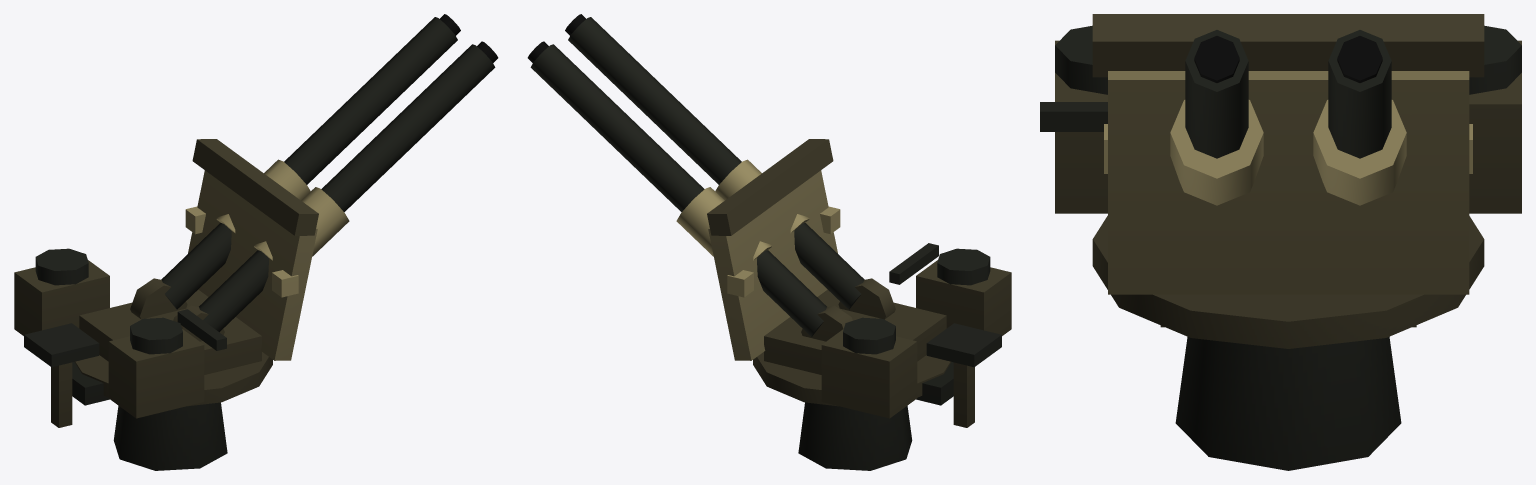
The picture shows the model from 3 angles, left to right: view 1: azimuth 30°, elevation 25°; view 2: azimuth 150°, elevation 25°; view 3: azimuth 270°, elevation 25°; orthographic projection. The views are drawn at different scales.
Parts seen in each view (by area): view 1: mesh; view 2: mesh; view 3: mesh.
Part boxes in pixels (bbox=[...]): mesh: bbox=[14, 14, 498, 470]; mesh: bbox=[527, 14, 1011, 470]; mesh: bbox=[1040, 14, 1521, 470].
Size of the model in its own units: 12.91 by 9.72 by 6.4.
